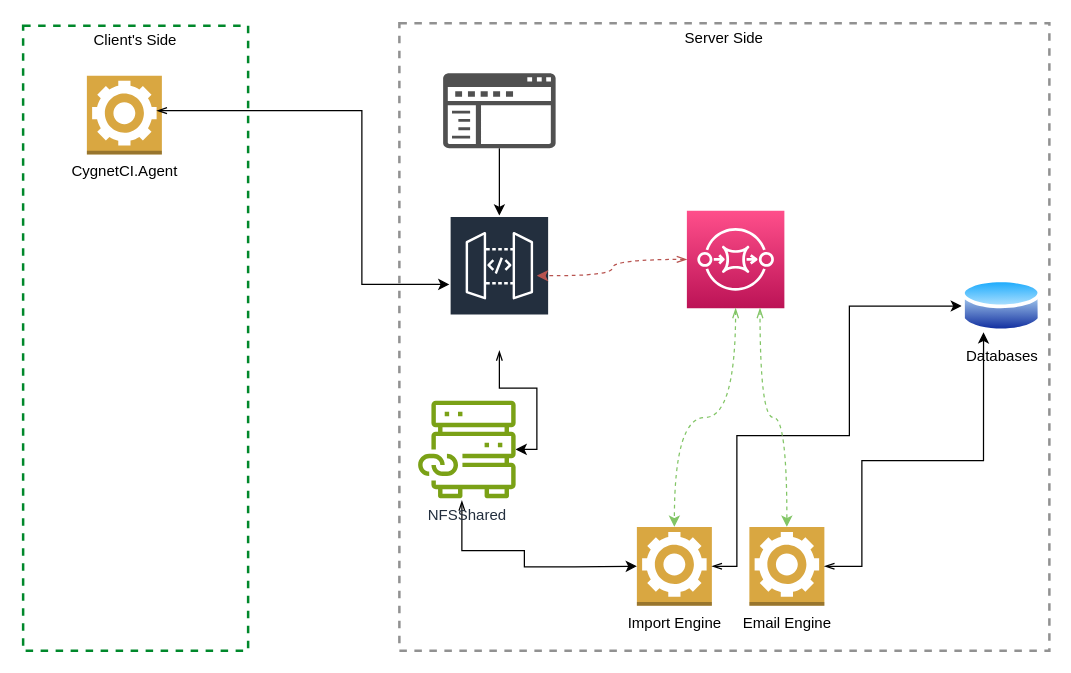
Image size: 1071x673. Some labels were removed from this diagram. The centre of each missing label's shape, as x and y in pixels:
CygnetCI.API: the point at 498,283
NextJS Portal: the point at 498,110
RabbitMQ Cluster: the point at 735,258
